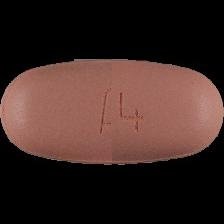50268-716: (0, 0, 224, 224)
